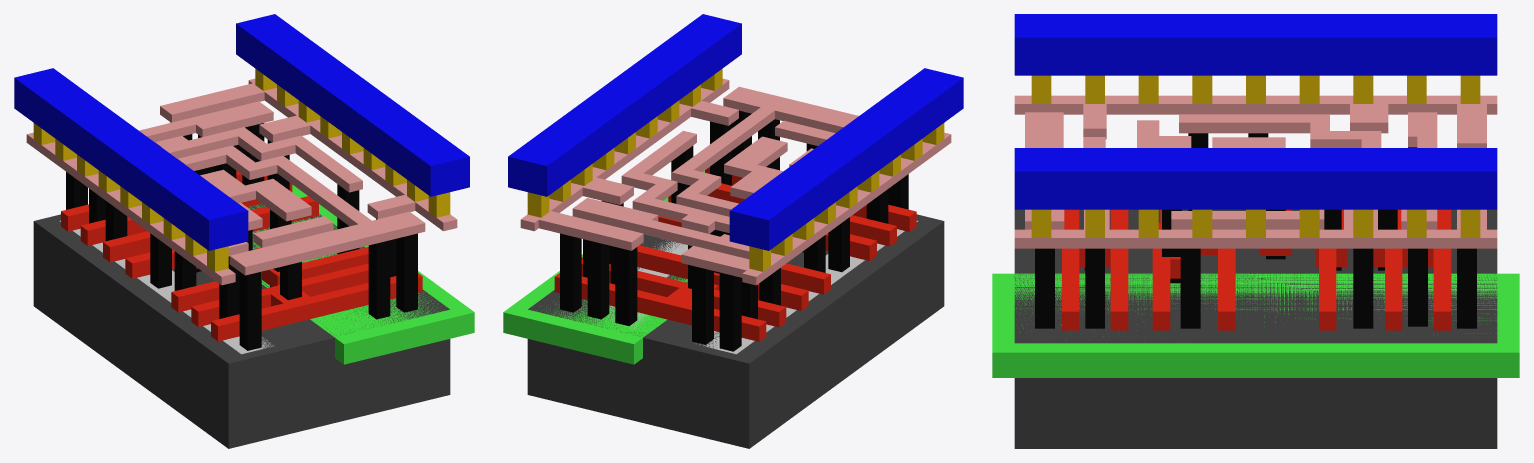
The model's file is sky130_fd_sc_hd__mux2_2.obj.
3 views of the same model, side by side, from view 1: azimuth 30°, elevation 25°; view 2: azimuth 150°, elevation 25°; view 3: azimuth 270°, elevation 25° (orthographic). The views are drawn at different scales.
Visible parts, largest first — view 1: subs, metal1, li, licon, poly, nwell, mcon, diff; view 2: subs, metal1, li, licon, poly, nwell, mcon, diff, tap; view 3: metal1, subs, li, nwell, poly, licon, mcon.
Boxes of the visible parts, x1,y1,x2,y2 form: subs: [33, 203, 450, 448]; metal1: [14, 14, 469, 250]; li: [26, 78, 457, 285]; licon: [66, 122, 417, 350]; poly: [61, 171, 422, 341]; nwell: [247, 184, 474, 364]; mcon: [33, 68, 450, 271]; diff: [59, 220, 274, 354]; subs: [527, 214, 944, 448]; metal1: [508, 14, 963, 250]; li: [520, 78, 951, 285]; licon: [560, 110, 908, 351]; poly: [554, 167, 916, 341]; nwell: [503, 170, 704, 364]; mcon: [527, 68, 944, 271]; diff: [696, 220, 918, 354]; tap: [584, 239, 687, 328]; metal1: [1014, 14, 1497, 209]; subs: [1014, 209, 1497, 448]; li: [1014, 95, 1497, 248]; nwell: [992, 273, 1519, 377]; poly: [1062, 209, 1451, 330]; licon: [1035, 133, 1476, 328]; mcon: [1031, 75, 1480, 237].
Bounding box in the file's own units: 3.2 × 2.74 × 4.52.
